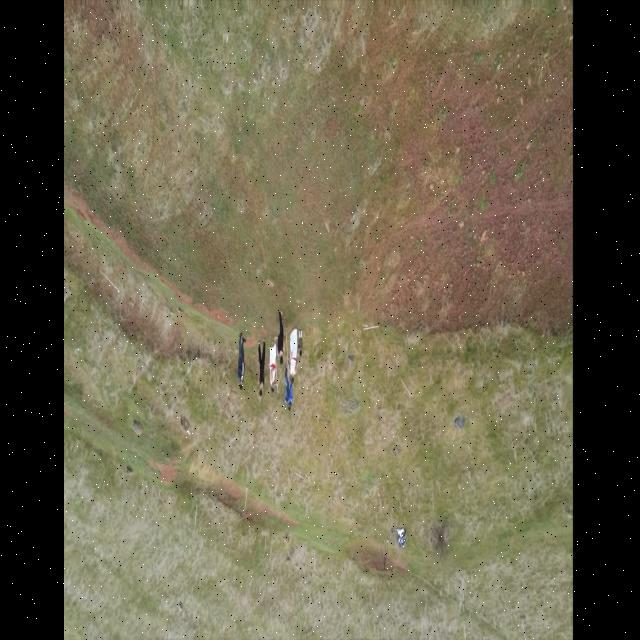humans: (234, 327, 250, 400), (254, 325, 268, 401), (272, 307, 286, 371), (286, 323, 299, 388), (265, 329, 277, 398), (295, 321, 305, 364), (283, 378, 292, 419)
